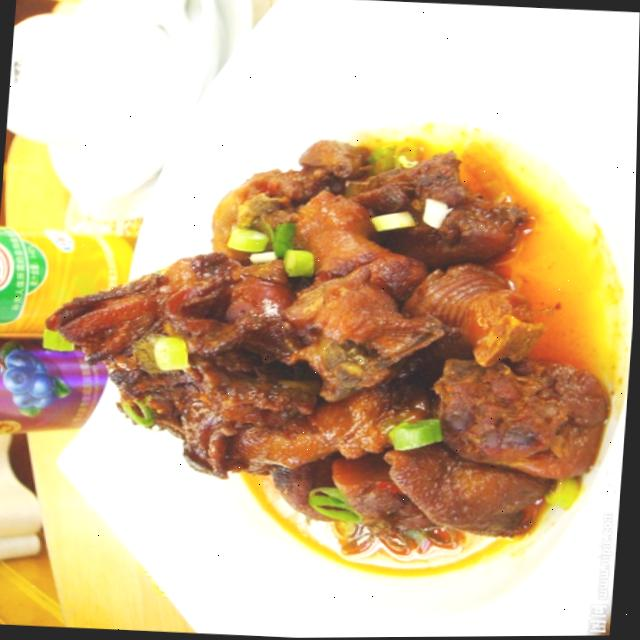鸡肉料理 含炸鸡: (51, 112, 606, 586)
